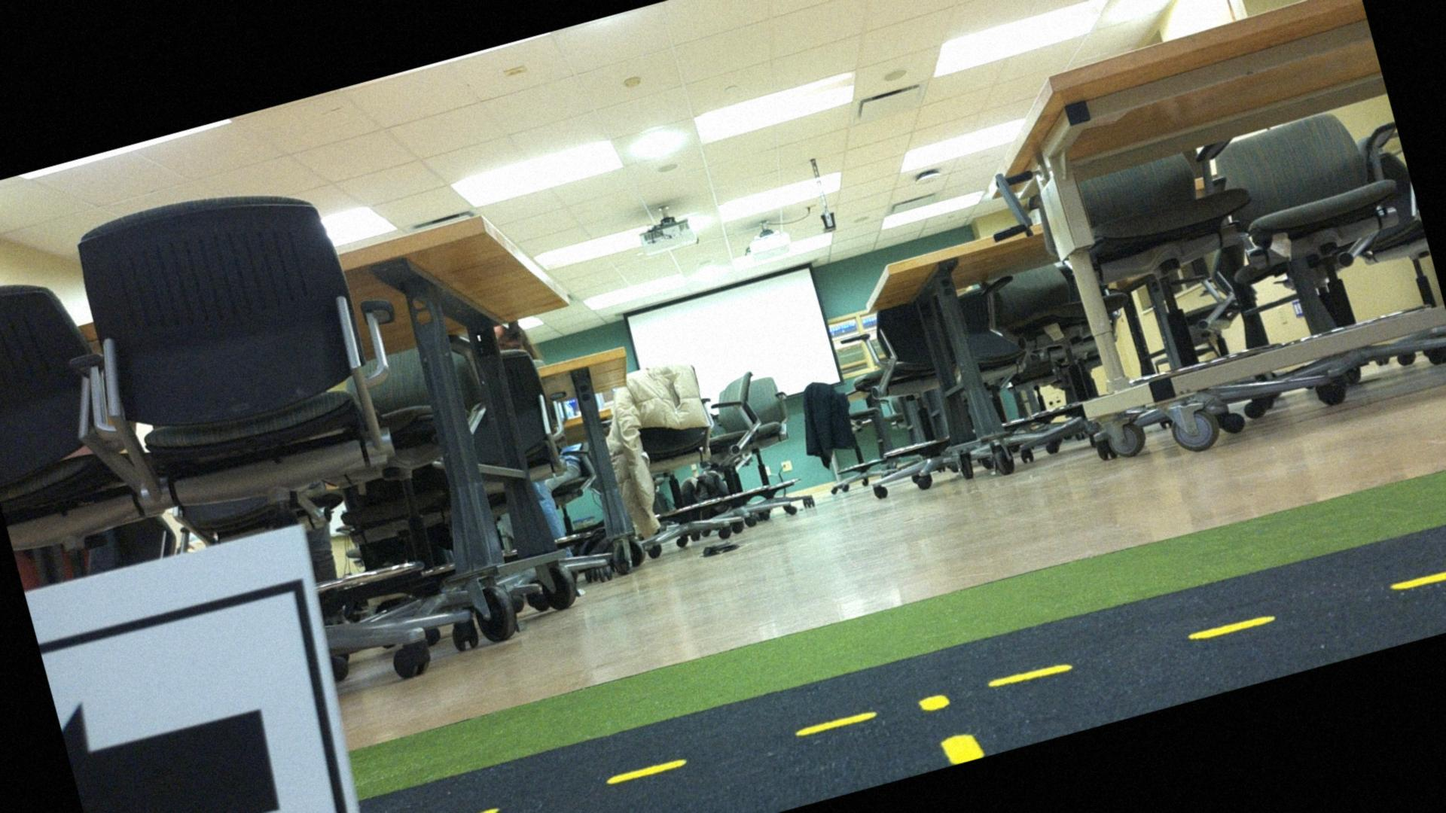yellowline: (420, 537, 1445, 812)
